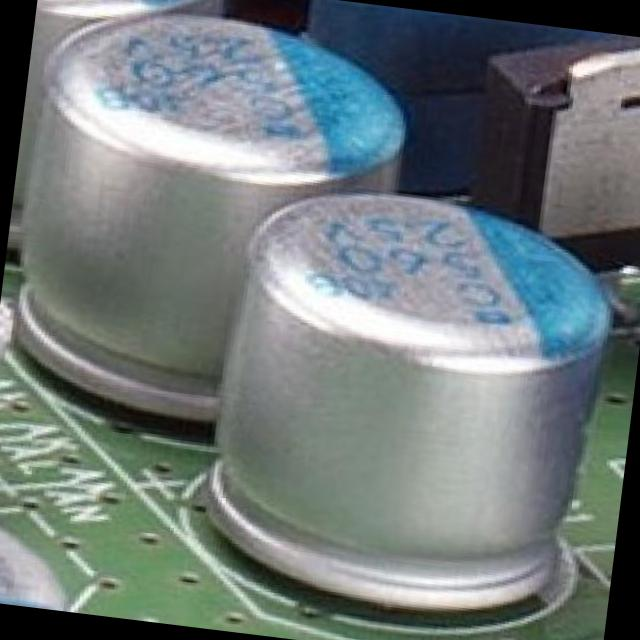capacitor: (188, 166, 622, 628), (0, 0, 429, 426)
